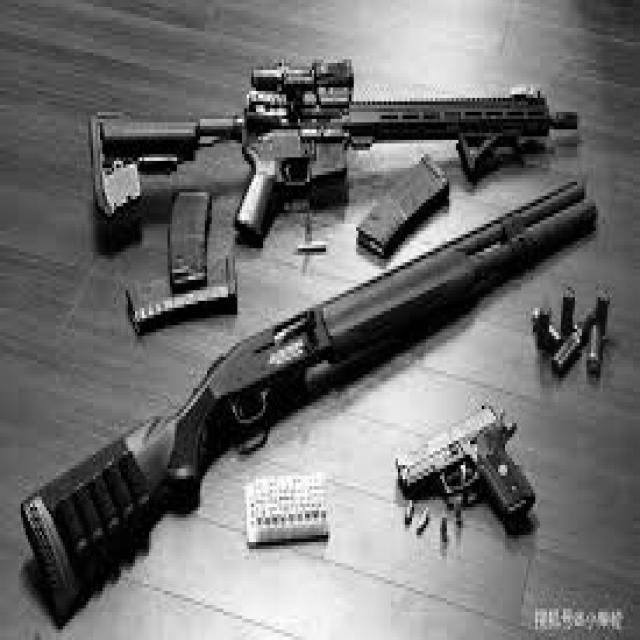gun: (19, 175, 598, 626), (86, 56, 577, 248), (393, 396, 536, 543)
